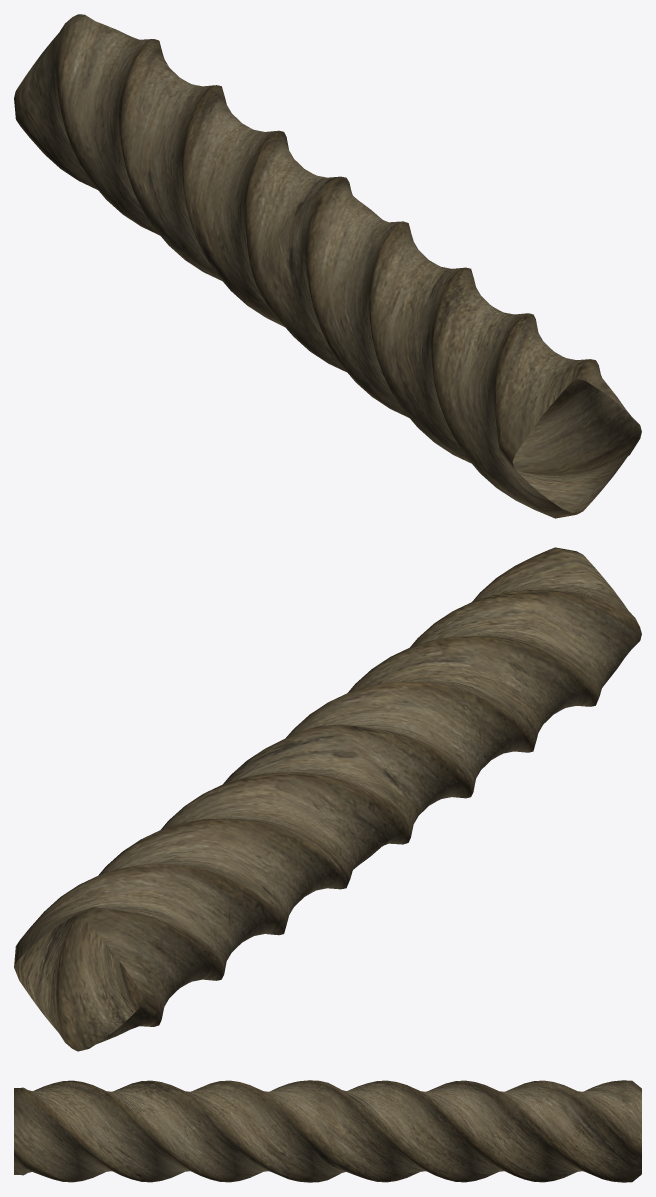
Rendered from SM_Rope.fbx.
The picture shows the model from 3 angles, top to bottom: view 1: azimuth 30°, elevation 25°; view 2: azimuth 150°, elevation 25°; view 3: azimuth 270°, elevation 25°; orthographic projection. The views are drawn at different scales.
Visible parts, largest first — view 1: SM_Rope_LOD0; view 2: SM_Rope_LOD0; view 3: SM_Rope_LOD0.
Boxes of the visible parts, x1,y1,x2,y2 form: SM_Rope_LOD0: [14, 14, 641, 518]; SM_Rope_LOD0: [14, 547, 641, 1051]; SM_Rope_LOD0: [14, 1080, 641, 1182].
Size of the model in its own units: 3.72 by 22.16 by 3.7.
1 material, 1 textured.
